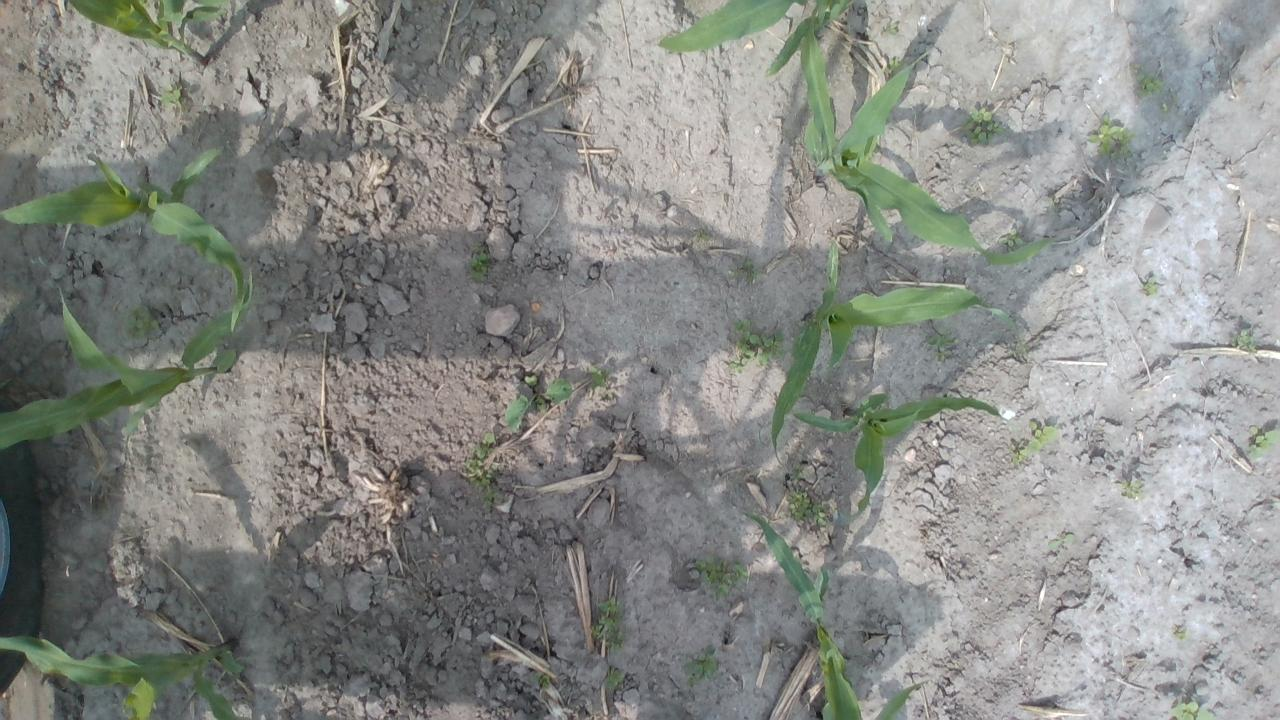Maize: (799, 0, 1063, 267), (770, 237, 1026, 475), (0, 266, 255, 459), (0, 146, 247, 333), (741, 510, 930, 720), (794, 391, 1008, 524), (0, 635, 253, 720), (657, 0, 853, 76), (66, 0, 234, 68)
Weeds: (503, 374, 573, 435), (729, 318, 784, 370), (694, 554, 750, 600), (1084, 110, 1134, 160), (1010, 417, 1060, 467), (590, 595, 626, 653), (466, 459, 504, 509), (961, 110, 1007, 146), (680, 643, 719, 685), (788, 489, 828, 528), (1246, 424, 1280, 461), (126, 306, 160, 342), (928, 327, 962, 360), (588, 366, 616, 399), (1133, 70, 1164, 99), (1234, 326, 1262, 356), (1171, 701, 1215, 720), (467, 251, 493, 282), (472, 432, 498, 462), (1121, 474, 1146, 503), (160, 83, 185, 111), (1048, 532, 1074, 556), (998, 225, 1022, 248), (1142, 274, 1161, 298), (606, 668, 624, 692), (883, 57, 903, 78), (740, 261, 759, 282), (534, 672, 552, 688), (1174, 626, 1190, 644), (884, 21, 901, 34), (694, 229, 709, 242)
